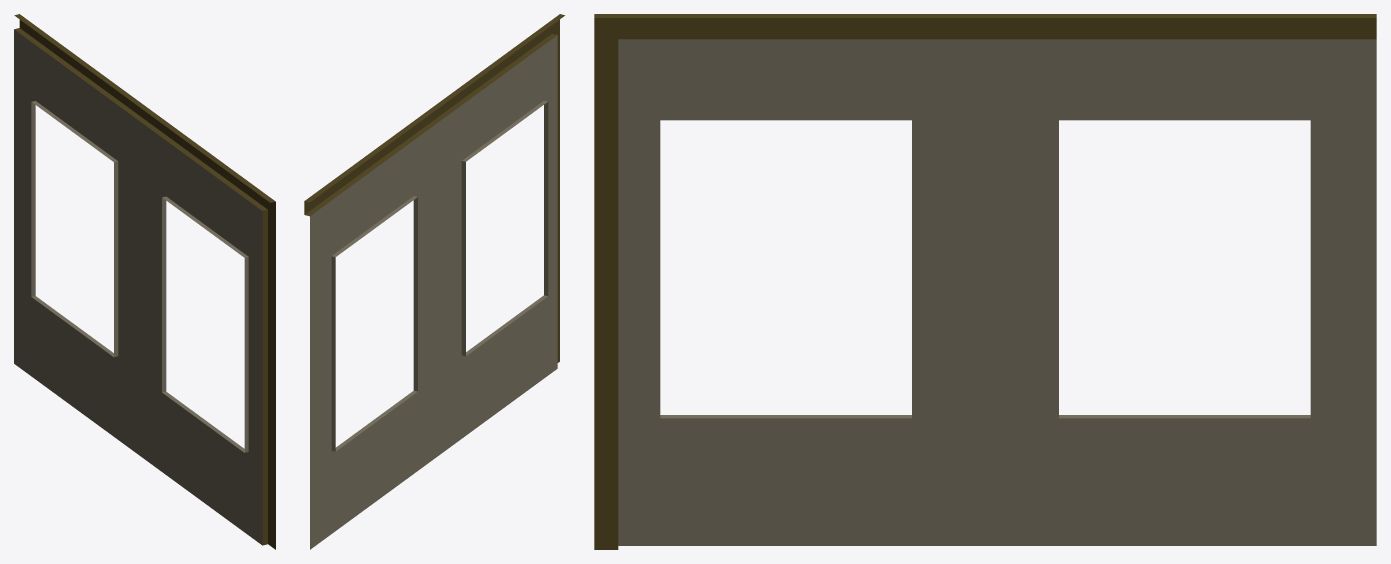
File: GB_Floor1_SideTwoWindows.fbx
3 views of the same model, side by side, from view 1: azimuth 30°, elevation 25°; view 2: azimuth 150°, elevation 25°; view 3: azimuth 270°, elevation 25° (orthographic). The views are drawn at different scales.
Parts seen in each view (by area): view 1: L_Floor1_Wall_TwoWindows; view 2: L_Floor1_Wall_TwoWindows; view 3: L_Floor1_Wall_TwoWindows.
Boxes of the visible parts, left/top/right/bottom form: L_Floor1_Wall_TwoWindows: left=14, top=14, right=275, bottom=549; L_Floor1_Wall_TwoWindows: left=304, top=14, right=564, bottom=549; L_Floor1_Wall_TwoWindows: left=594, top=14, right=1376, bottom=549.
Bounding box in the file's own units: 0.0882 × 3 × 4.
